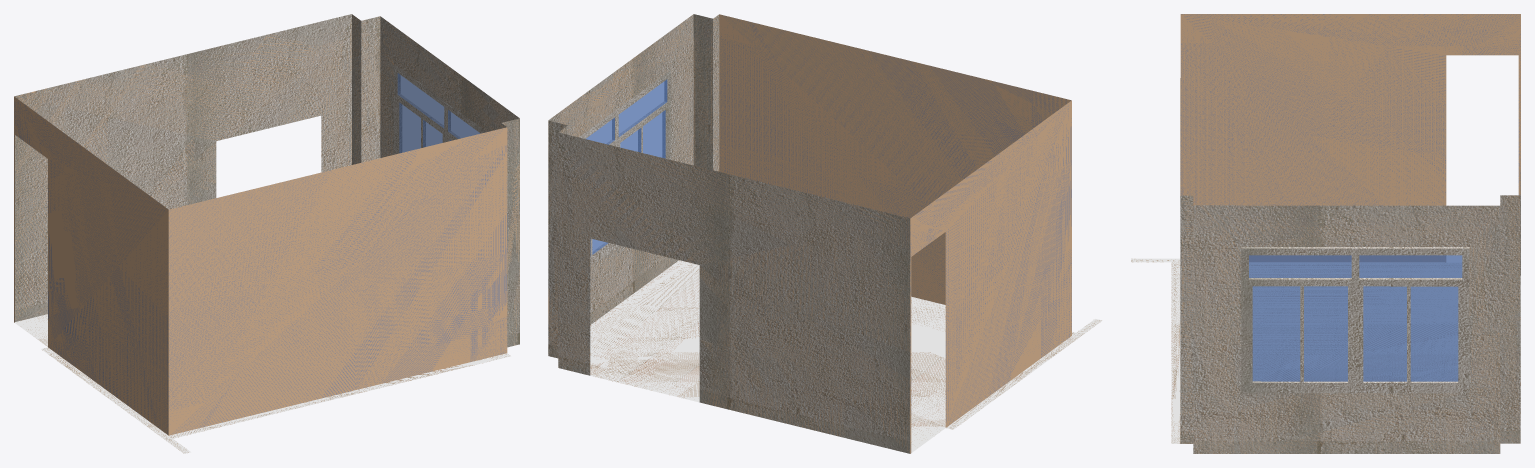
Rendered from DES017.obj.
3 views of the same model, side by side, from view 1: azimuth 30°, elevation 25°; view 2: azimuth 150°, elevation 25°; view 3: azimuth 270°, elevation 25° (orthographic). The views are drawn at different scales.
Visible parts, largest first — view 1: Mesh13 CUA017 Model, Mesh1 v6_1 CUA017 Model; view 2: Mesh13 CUA017 Model, Mesh1 v6_1 CUA017 Model; view 3: Mesh13 CUA017 Model, Mesh1 v6_1 CUA017 Model.
Part boxes in pixels (x1,y1,x2,y2): Mesh13 CUA017 Model: (14, 14, 519, 453); Mesh1 v6_1 CUA017 Model: (394, 64, 486, 154); Mesh13 CUA017 Model: (548, 14, 1102, 453); Mesh1 v6_1 CUA017 Model: (579, 70, 670, 265); Mesh13 CUA017 Model: (1131, 14, 1520, 453); Mesh1 v6_1 CUA017 Model: (1241, 247, 1469, 393).
Size of the model in its own units: 6.12 by 3.6 by 5.12.
Materials: 7 (2 with a texture image).
